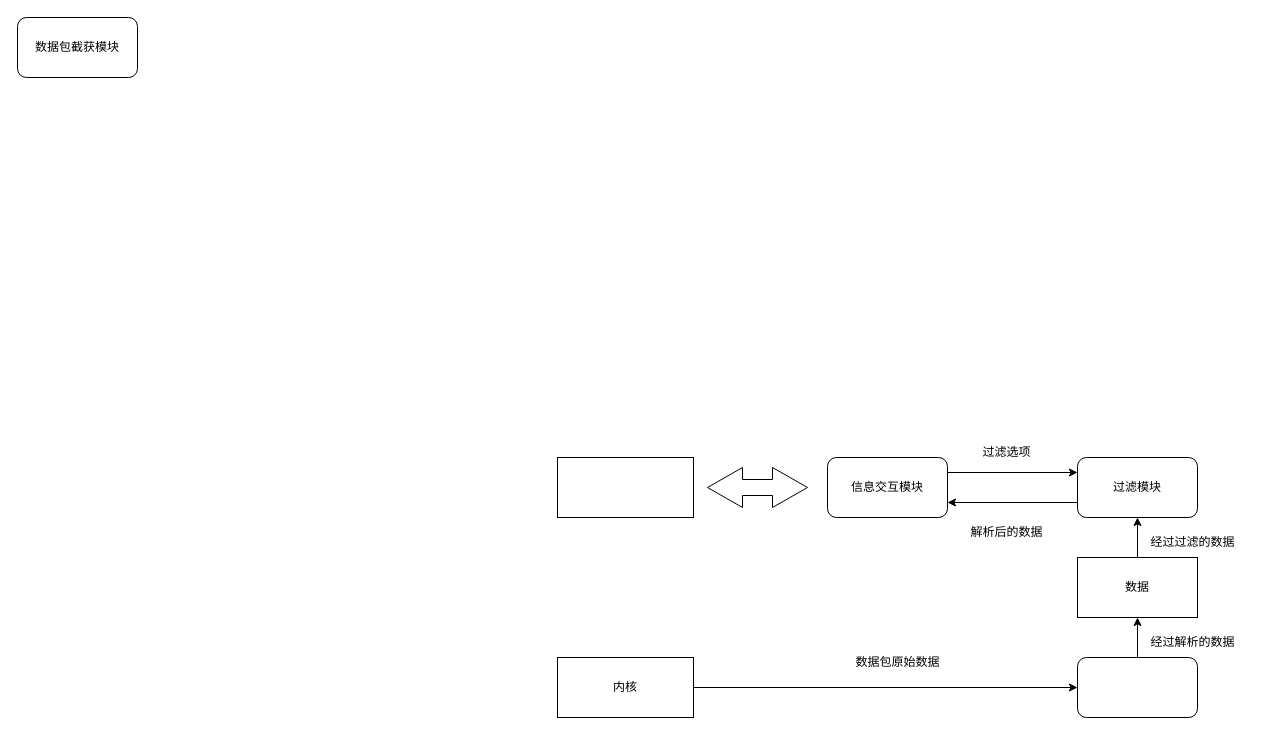
Some shapes in this 1265 by 735 pixel diagram are drawn without their labels. Here are the shapes that lost their labels. From the top down, the centre of each, then its label:
At pixel 625 487: "应用层".
At pixel 1137 687: "数据包处理模块".
